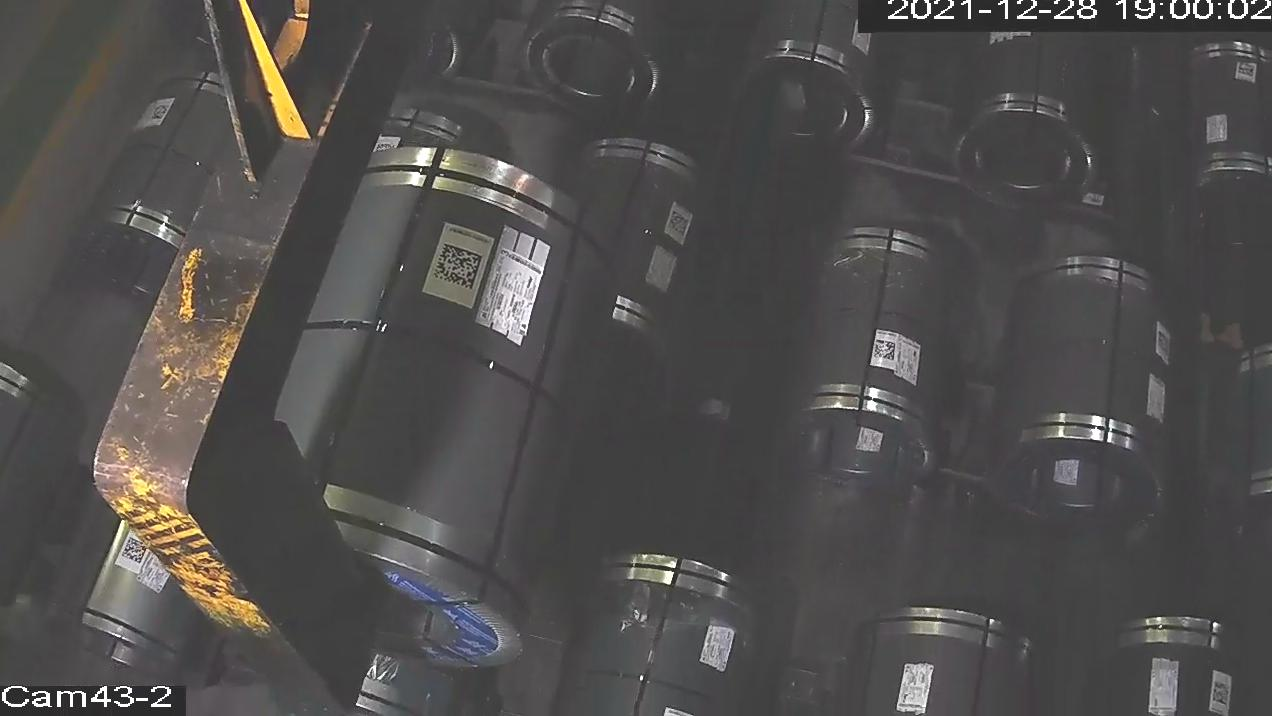data matrix: (430, 241, 486, 292), (663, 207, 695, 239), (120, 536, 149, 567), (871, 338, 898, 365)
